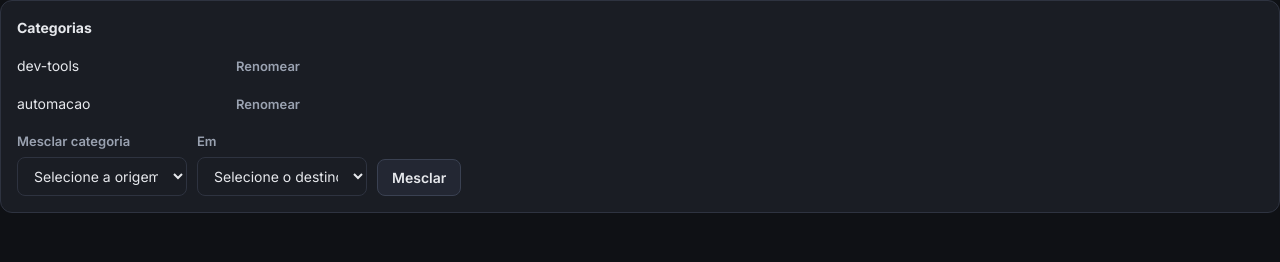
Test: CategoryManager › shows an error message when the merge fails
Select "dev-tools" in the dropdown labelled "Mesclar categoria" at (102, 176), box [17,157,187,196]
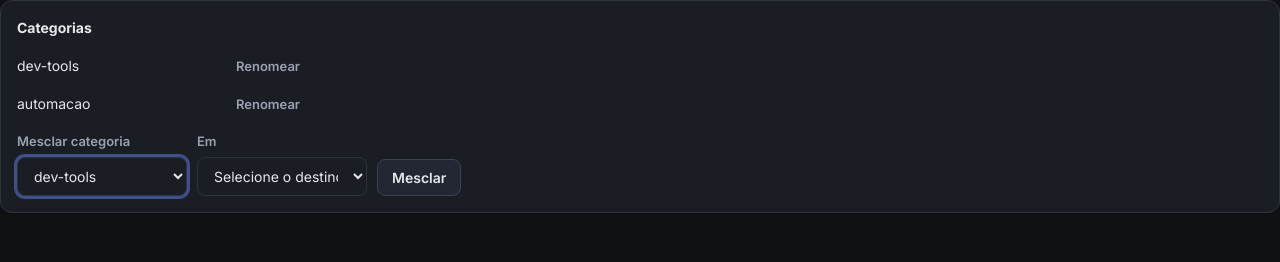
Select "automacao" in the dropdown labelled "Em" at (282, 176), box [197,157,367,196]
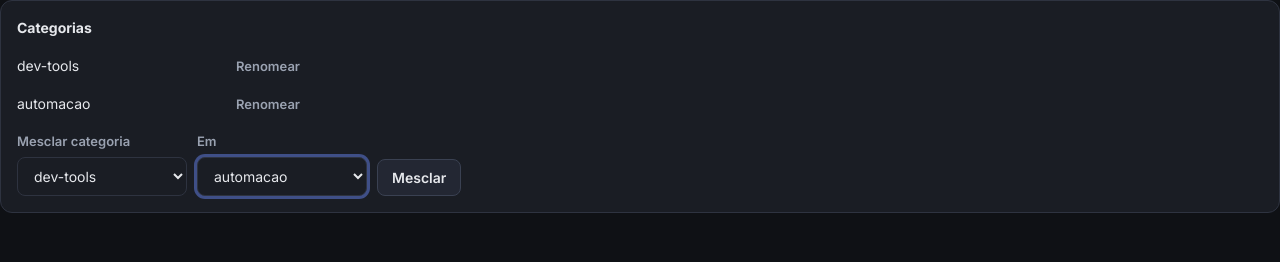
Click the button "Mesclar" at (419, 177), box [377,159,461,196]
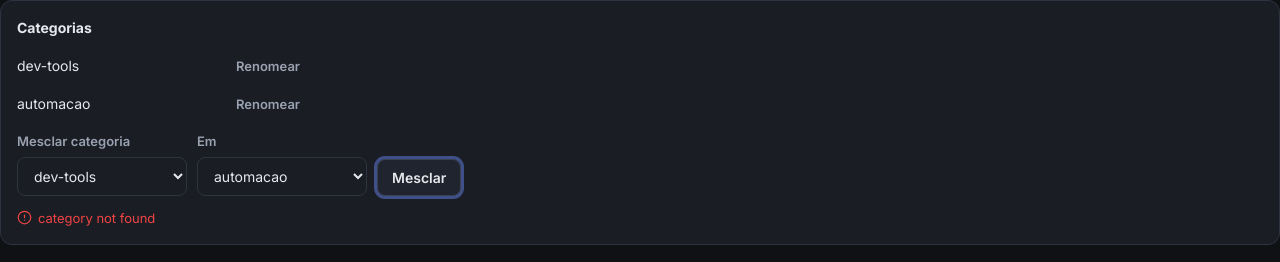
Check: the message reads "category not found", box [38,210,155,226]
